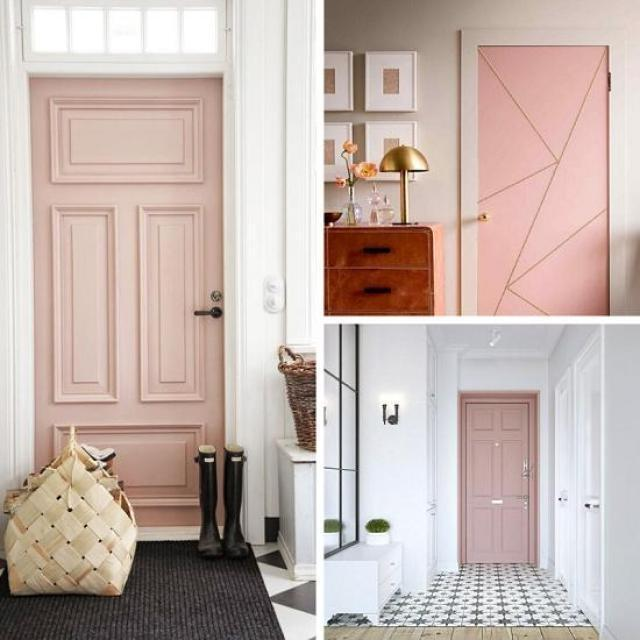door: (22, 56, 235, 564), (454, 26, 628, 320), (458, 391, 546, 574), (580, 326, 609, 630), (558, 367, 576, 598)
